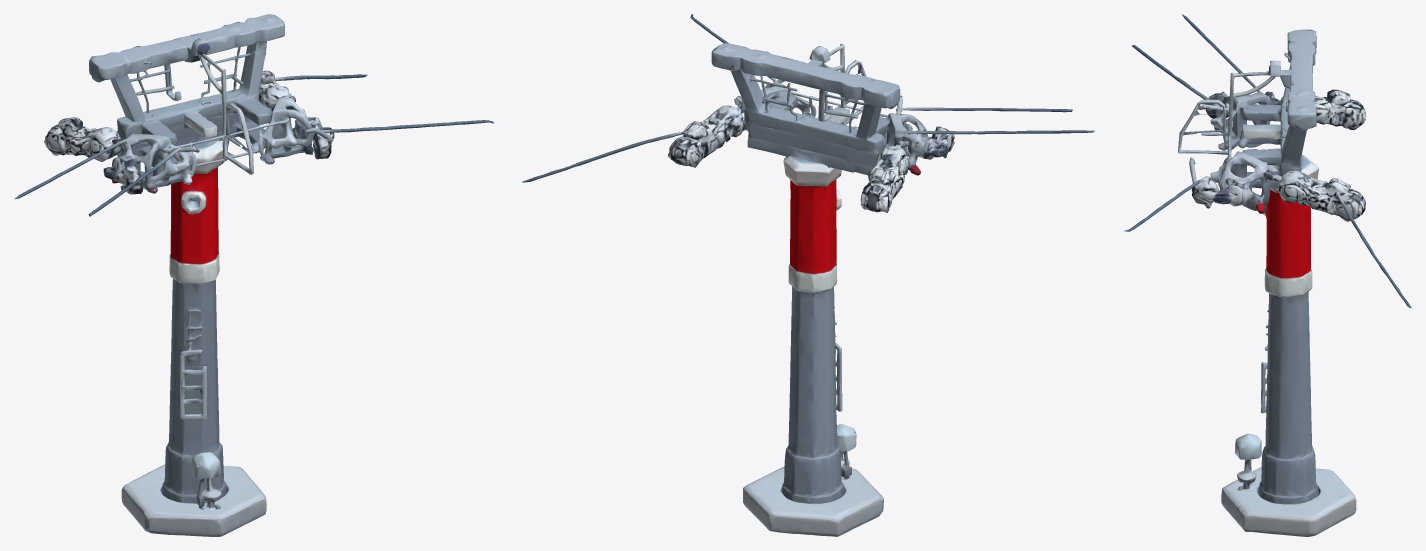
File: pylon.glb
3 views of the same model, side by side, from view 1: azimuth 30°, elevation 25°; view 2: azimuth 150°, elevation 25°; view 3: azimuth 270°, elevation 25° (orthographic). The views are drawn at different scales.
Parts seen in each view (by area): view 1: tripo_node_08cea5f6-5e7f-4bc0-911e-945690641e67; view 2: tripo_node_08cea5f6-5e7f-4bc0-911e-945690641e67; view 3: tripo_node_08cea5f6-5e7f-4bc0-911e-945690641e67.
Boxes of the visible parts, x1=… form: tripo_node_08cea5f6-5e7f-4bc0-911e-945690641e67: x1=14, y1=14, x2=493, y2=536; tripo_node_08cea5f6-5e7f-4bc0-911e-945690641e67: x1=522, y1=14, x2=1094, y2=536; tripo_node_08cea5f6-5e7f-4bc0-911e-945690641e67: x1=1123, y1=14, x2=1411, y2=536.
Size of the model in its own units: 1 by 0.9582 by 0.5582.
Materials: 1 (1 with a texture image).
